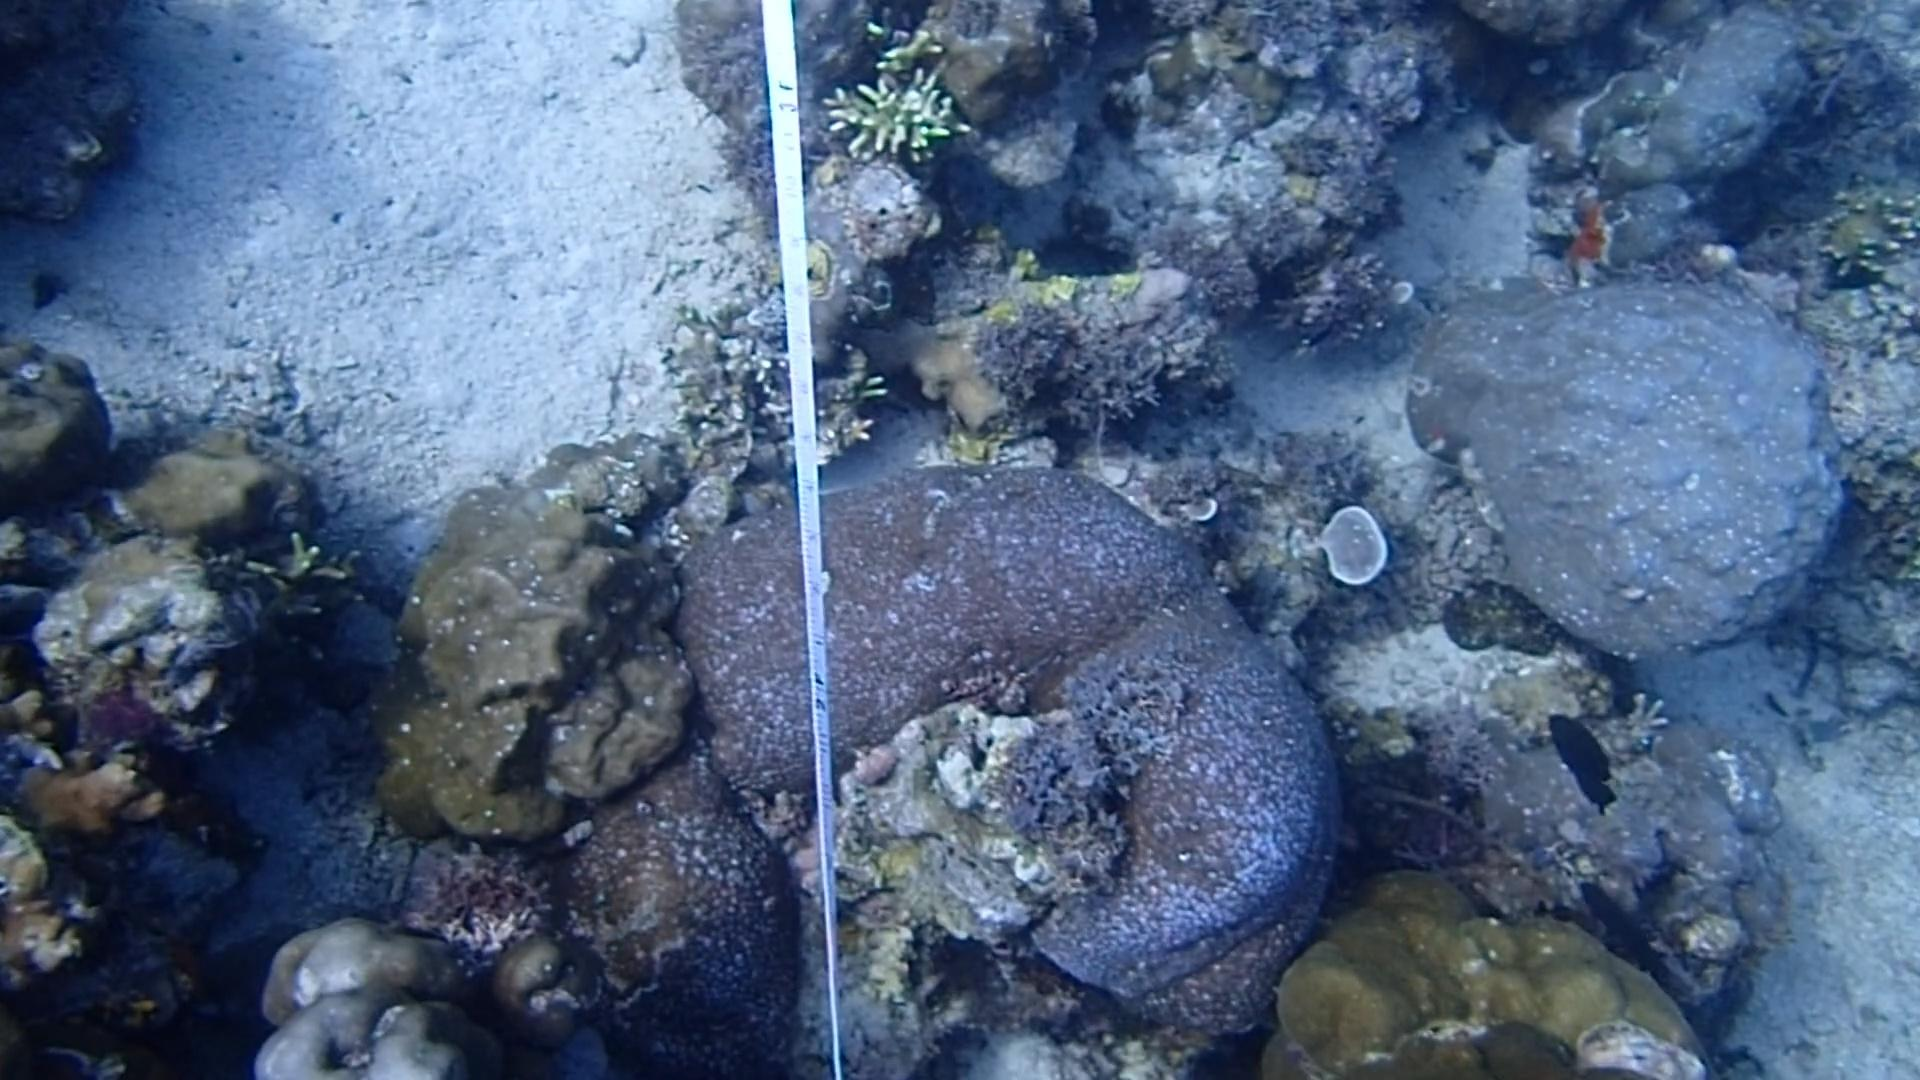Dark Fish: (1543, 702, 1622, 814)
